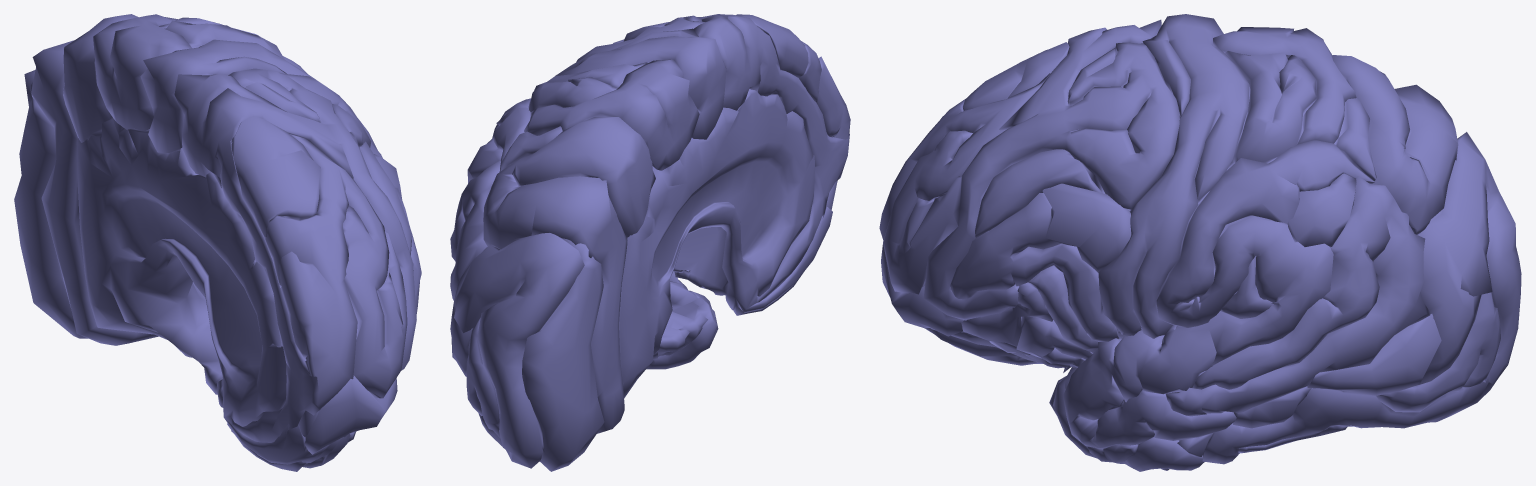
The model's file is Carebrum_Trans.gltf.
3 renders of one model, left to right at view 1: azimuth 30°, elevation 25°; view 2: azimuth 150°, elevation 25°; view 3: azimuth 270°, elevation 25°, orthographic. The views are drawn at different scales.
Visible parts, largest first — view 1: Carebrum; view 2: Carebrum; view 3: Carebrum.
Part boxes in pixels (x1,y1,x2,y2): Carebrum: (14,14,421,471); Carebrum: (450,14,850,471); Carebrum: (879,14,1521,471).
Bounding box in the file's own units: 6.6 × 11.32 × 16.76.
